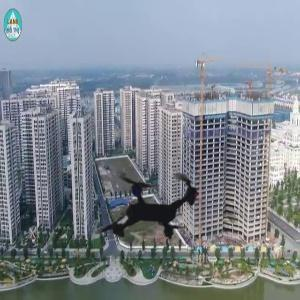drone: (68, 124, 233, 289)
